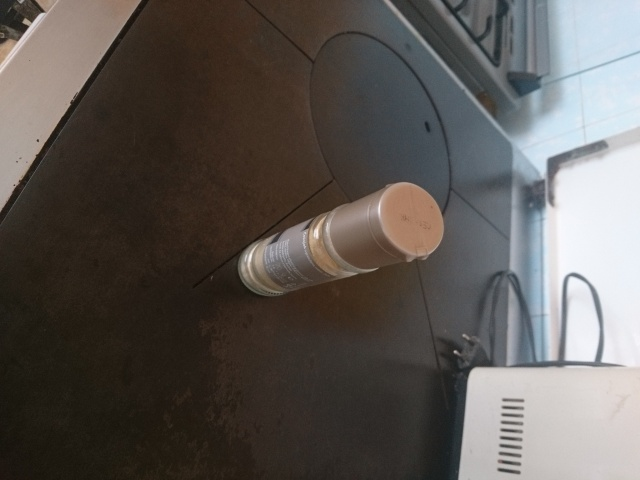Kotanyi Garlic Granules 70g: (234, 179, 447, 300)
